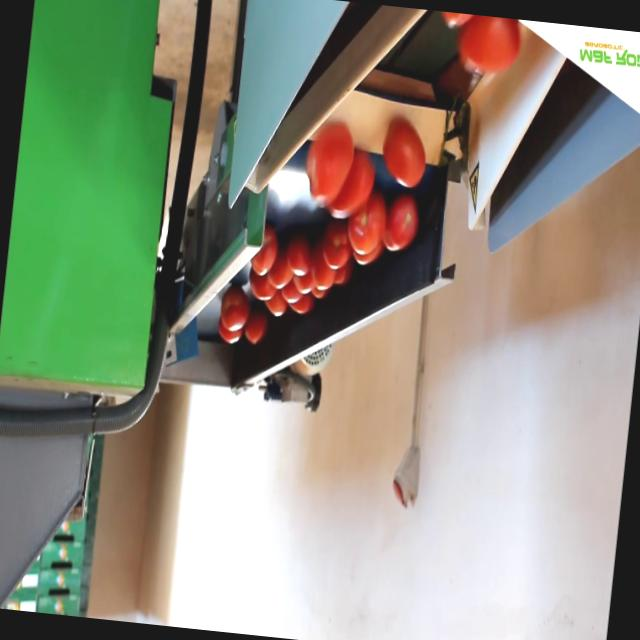Tomato: (304, 116, 358, 203), (456, 13, 522, 78), (380, 114, 430, 190), (329, 154, 375, 226), (346, 191, 388, 256), (380, 196, 420, 253), (250, 230, 282, 282), (216, 288, 250, 330), (322, 228, 353, 272), (308, 248, 336, 292), (240, 274, 274, 300), (288, 242, 310, 276), (244, 317, 268, 348), (270, 254, 292, 286), (442, 11, 472, 34), (262, 293, 286, 317), (217, 323, 240, 344), (292, 292, 312, 316), (290, 274, 312, 295), (278, 282, 300, 302)
